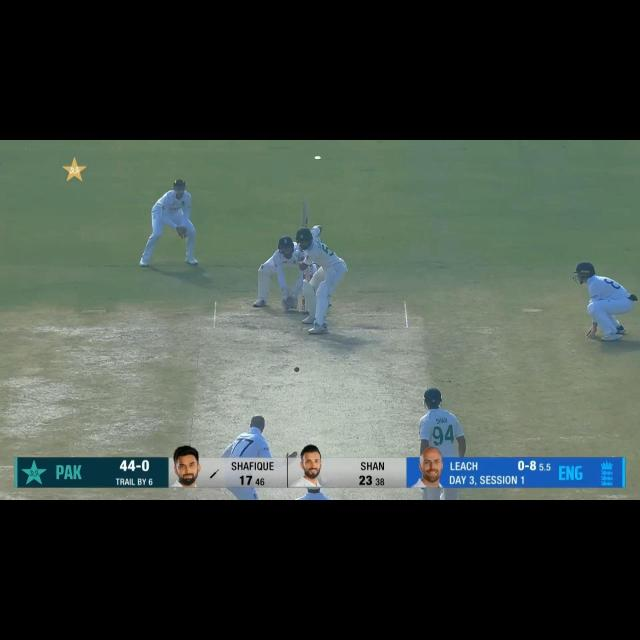bat: (302, 200, 309, 228)
toe: (302, 200, 308, 209)
